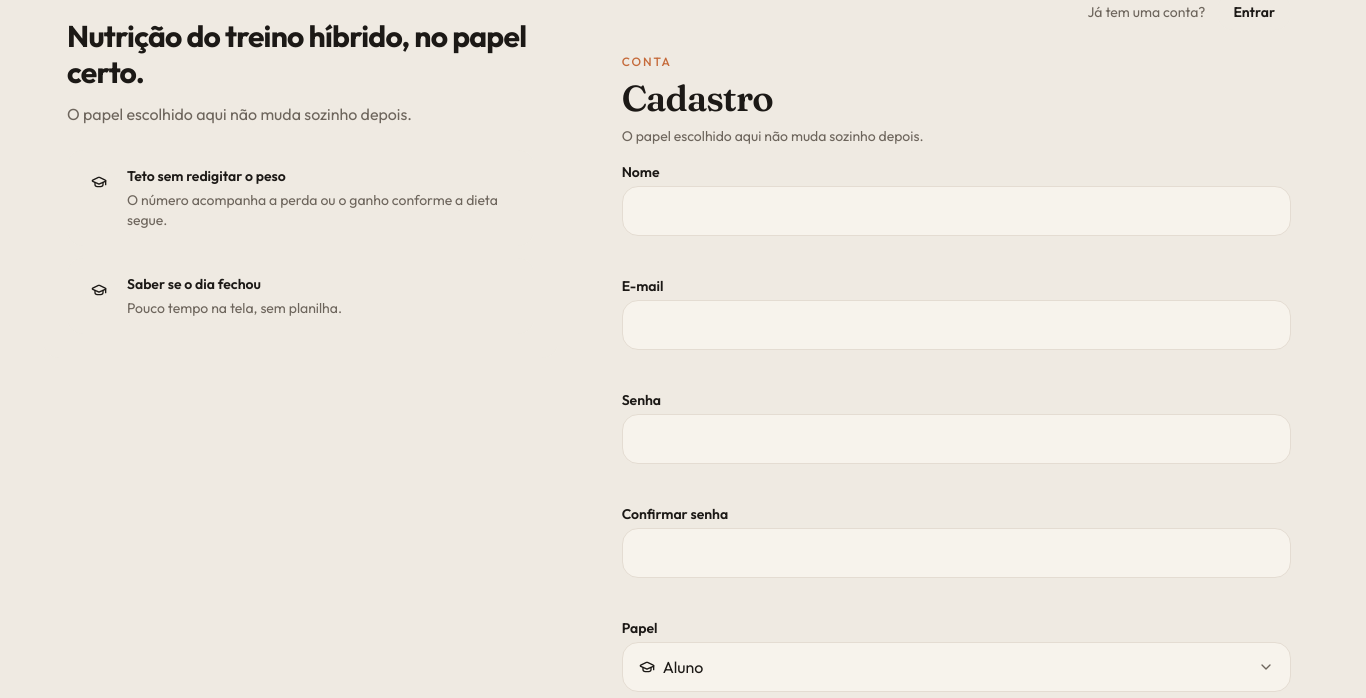
it: 400 da API no cadastro válido ainda mostra que os dados não passaram
In the field labelled "Nome": (956, 211) [622,186,1291,236], type "Ana Aluna"
In the field labelled "E-mail": (956, 325) [622,300,1291,350], type "ana@example.com"
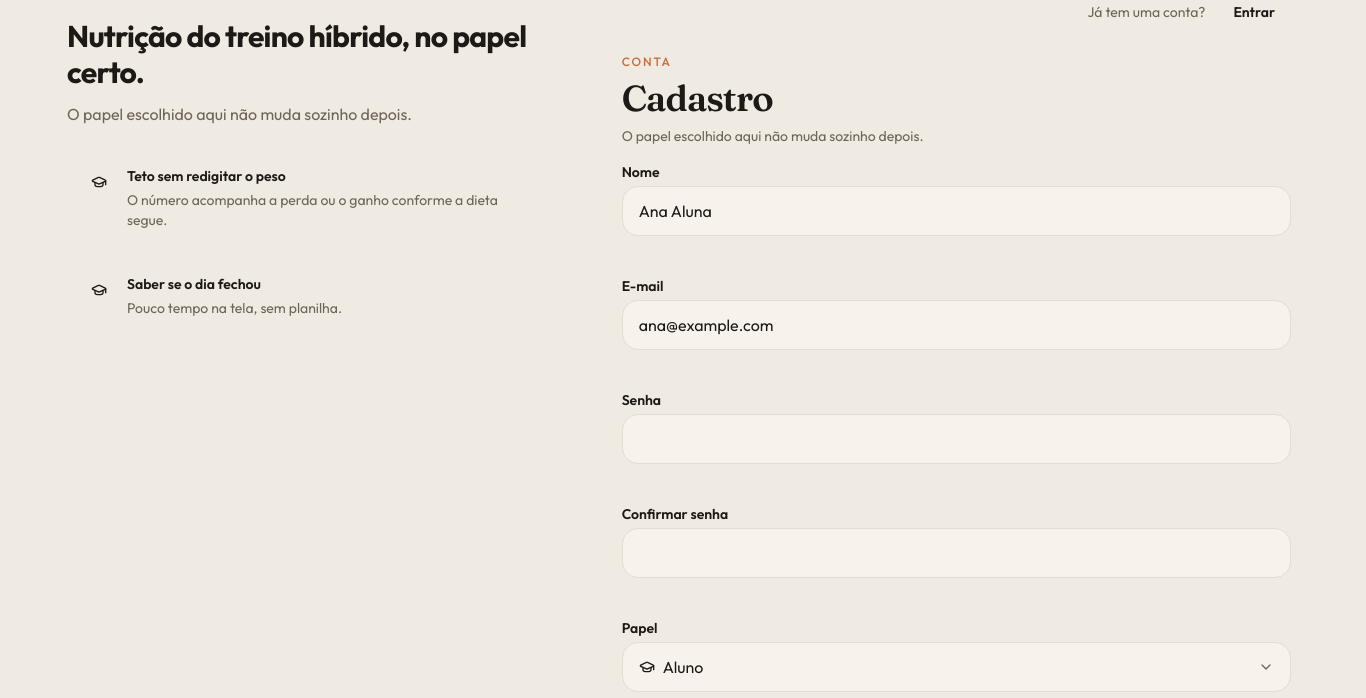
In the password field labelled "Senha": (956, 439) [622,414,1291,464], type "Senha123"
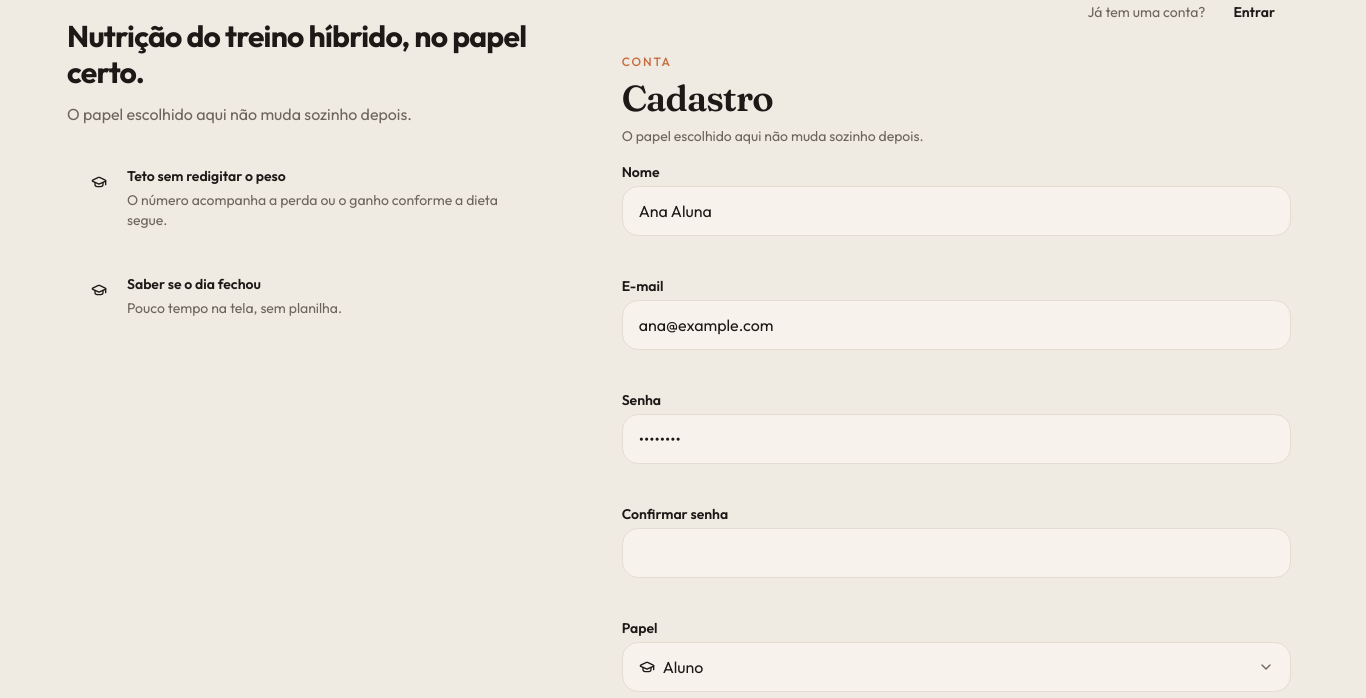
In the password field labelled "Confirmar senha": (956, 553) [622,528,1291,578], type "Senha123"
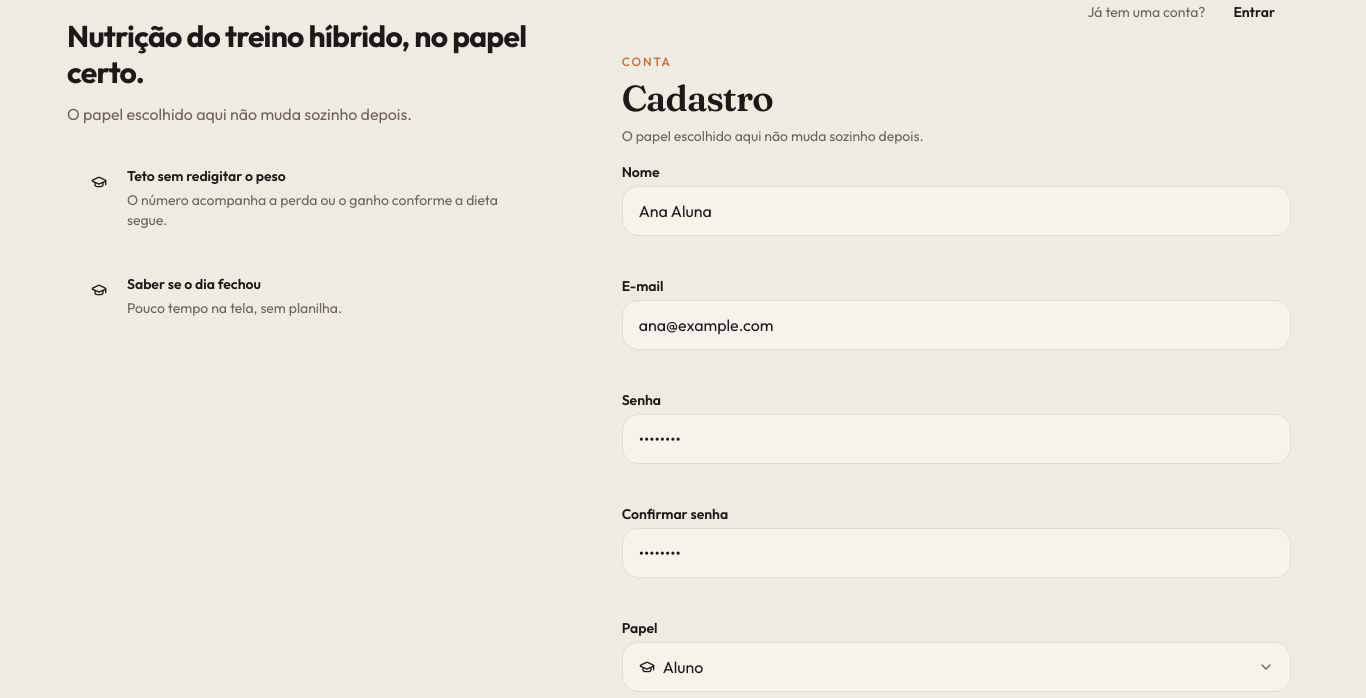
Click the dropdown named "Papel": (683, 667) [622,642,1291,692]
(page scrolled)
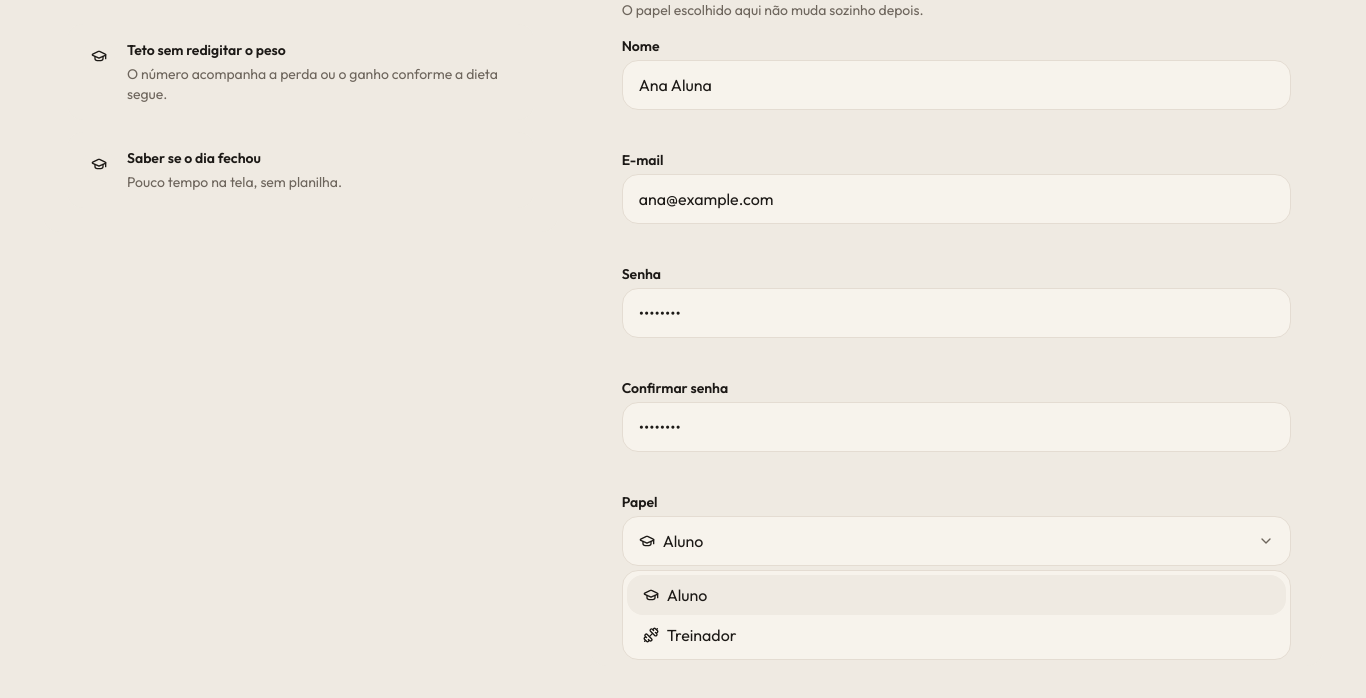
Click the option "Aluno": (687, 595) [627,575,1286,615]
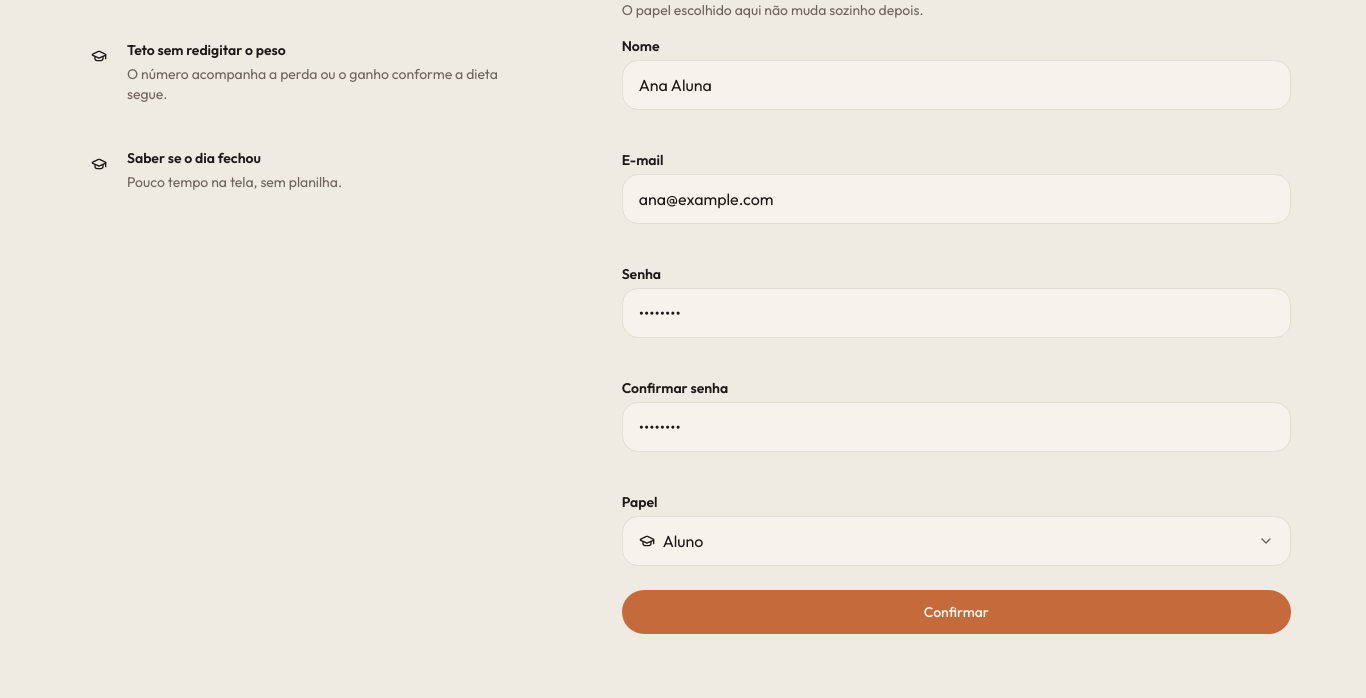
Click the button "Confirmar": (956, 612) [622,590,1291,634]
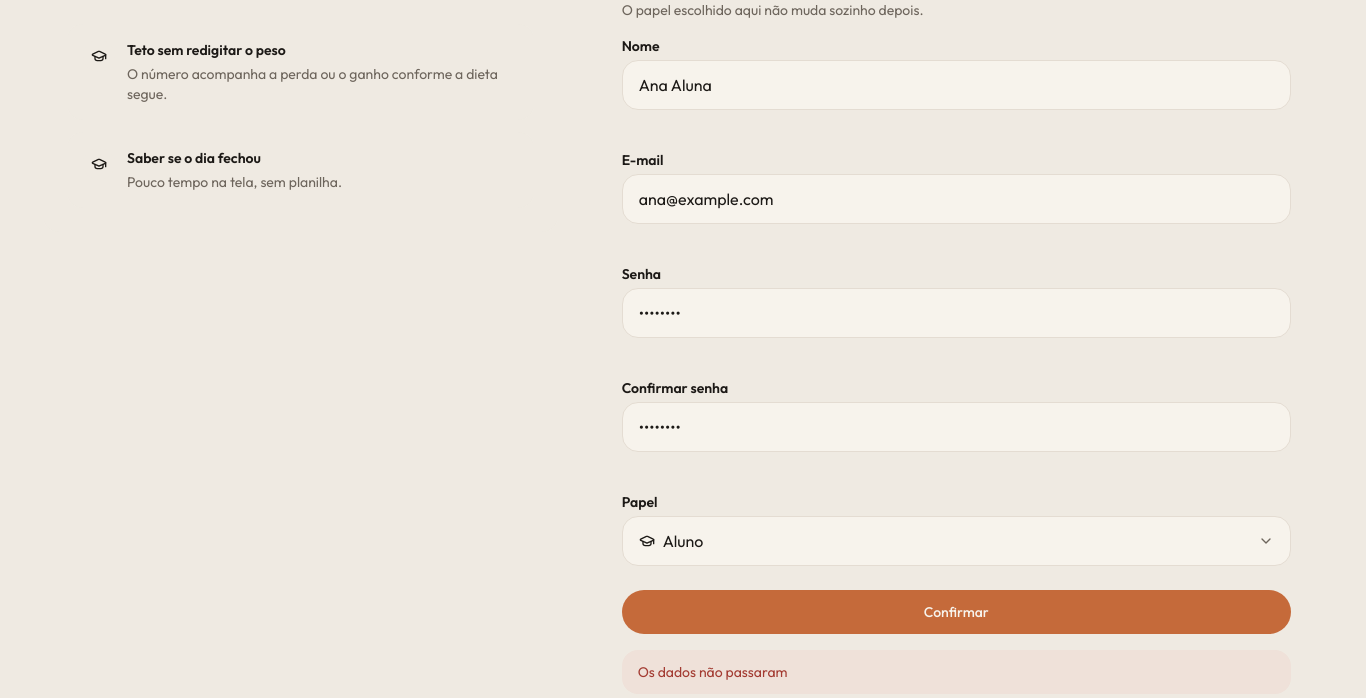
Now the text "Os dados não passaram" is shown, box [622,650,1291,694]
